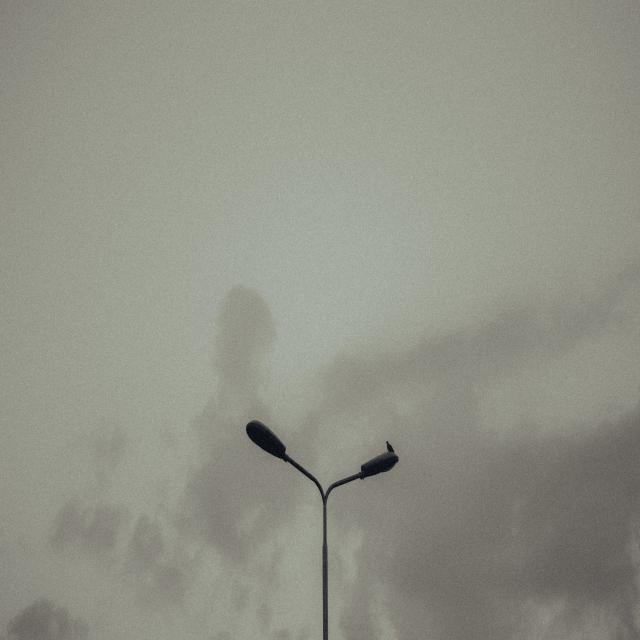Street Light: (245, 420, 399, 639)
